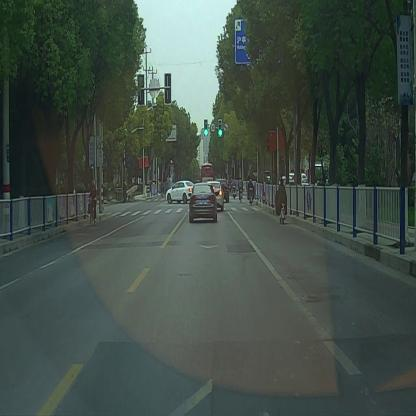Green Light: (218, 120, 223, 138), (204, 119, 208, 138)
